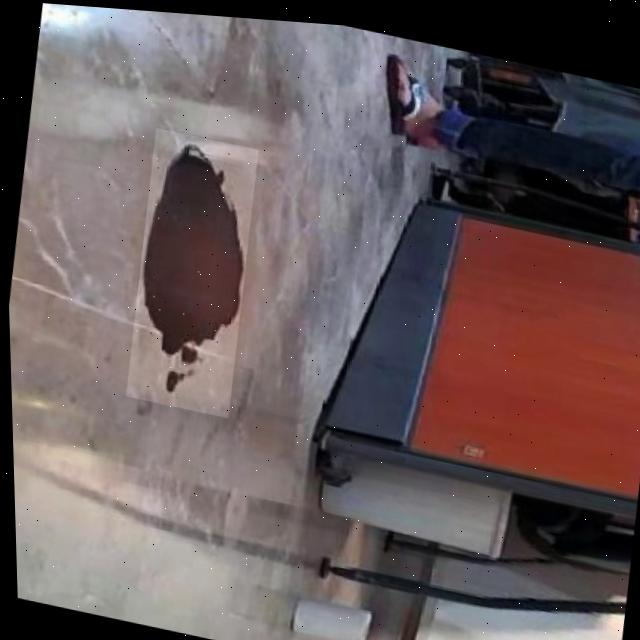spillage: (142, 134, 242, 406)
